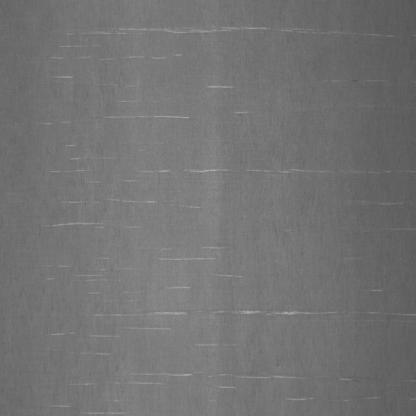waist_folding: (38, 32, 416, 398)
